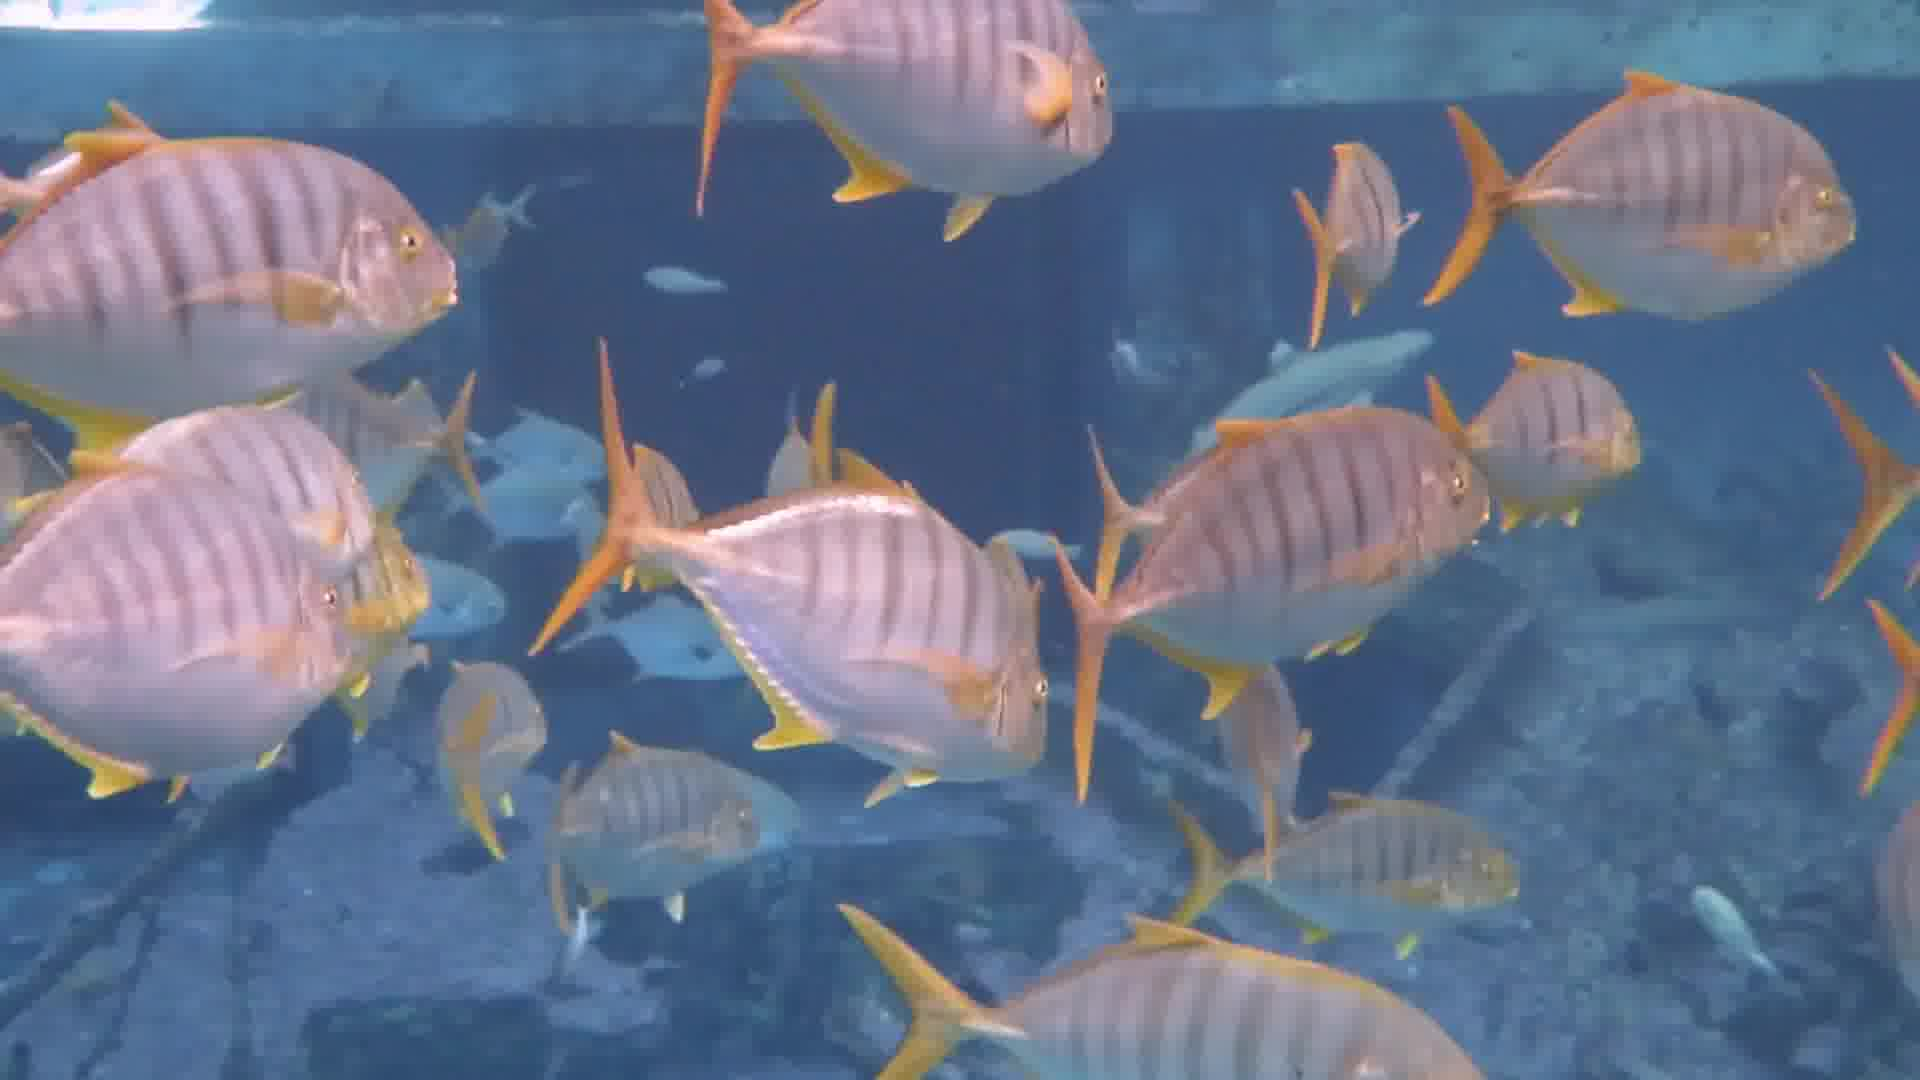Gnathanodon speciosus: (596, 398, 1058, 825), (11, 454, 413, 807), (1076, 417, 1497, 752), (11, 123, 489, 390), (1441, 84, 1887, 349), (713, 3, 1120, 235), (1163, 806, 1549, 930)
